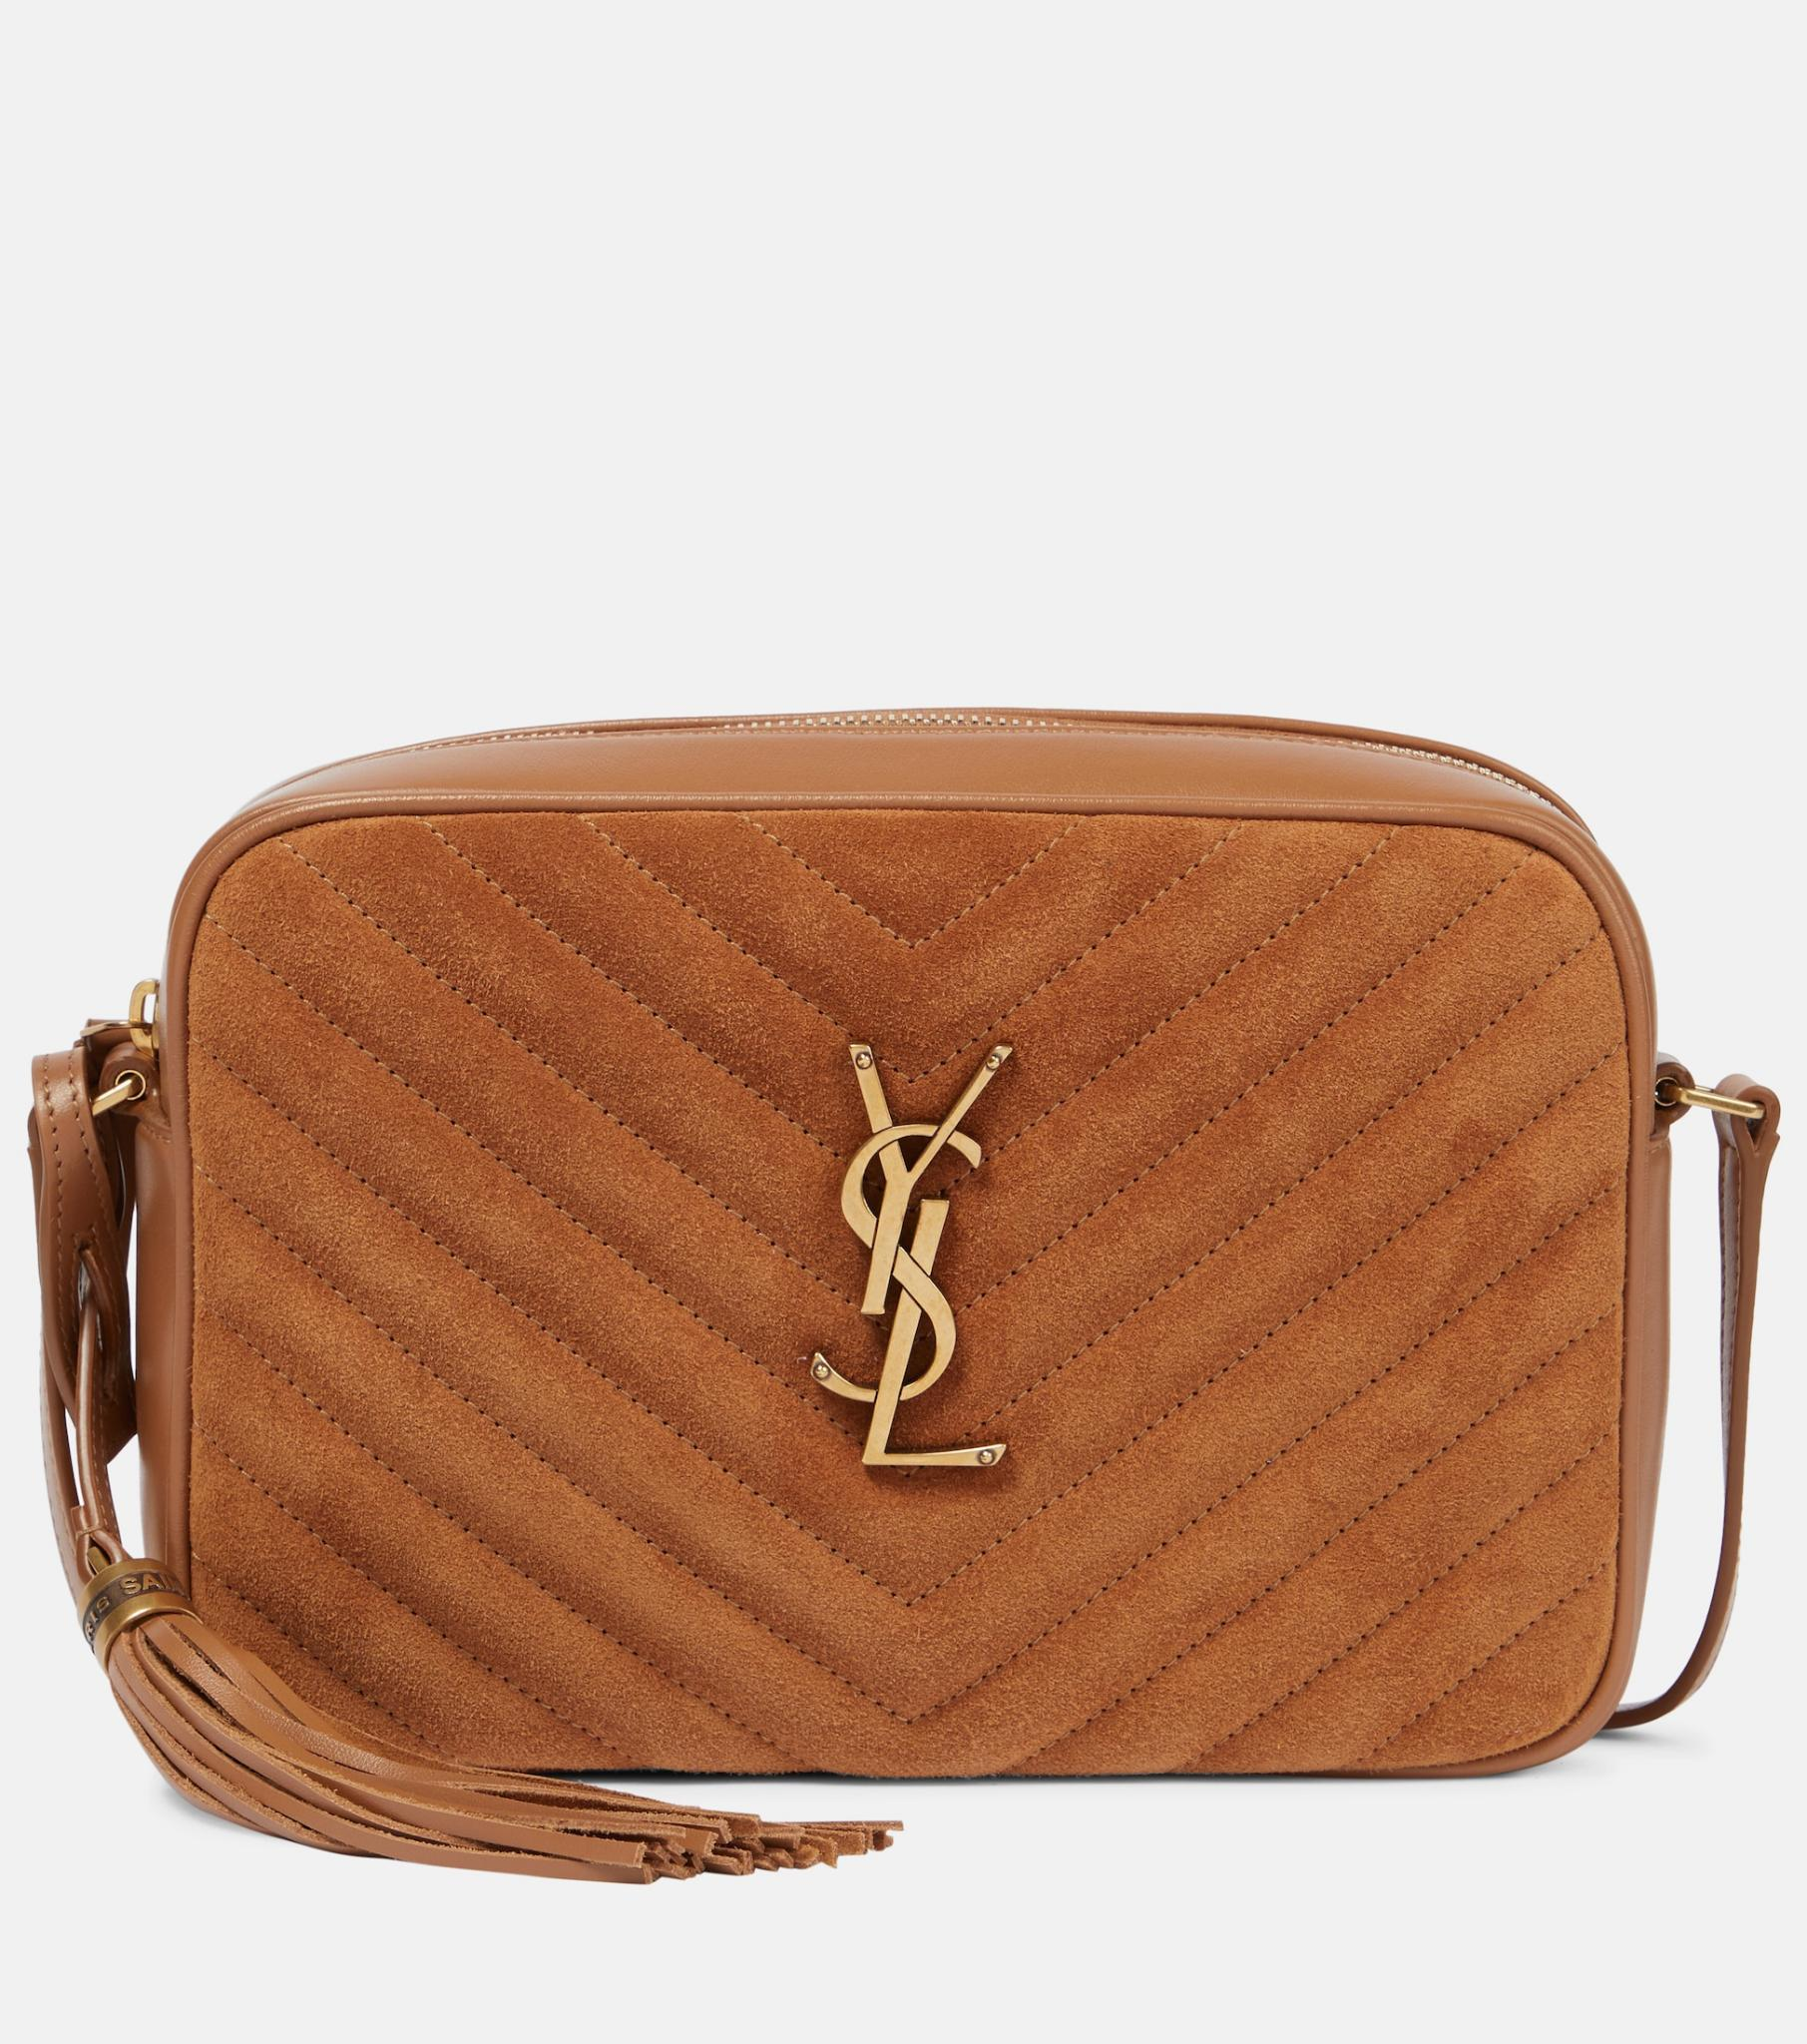YVES-SAINT-LAURENT: (809, 1041, 1013, 1468)
